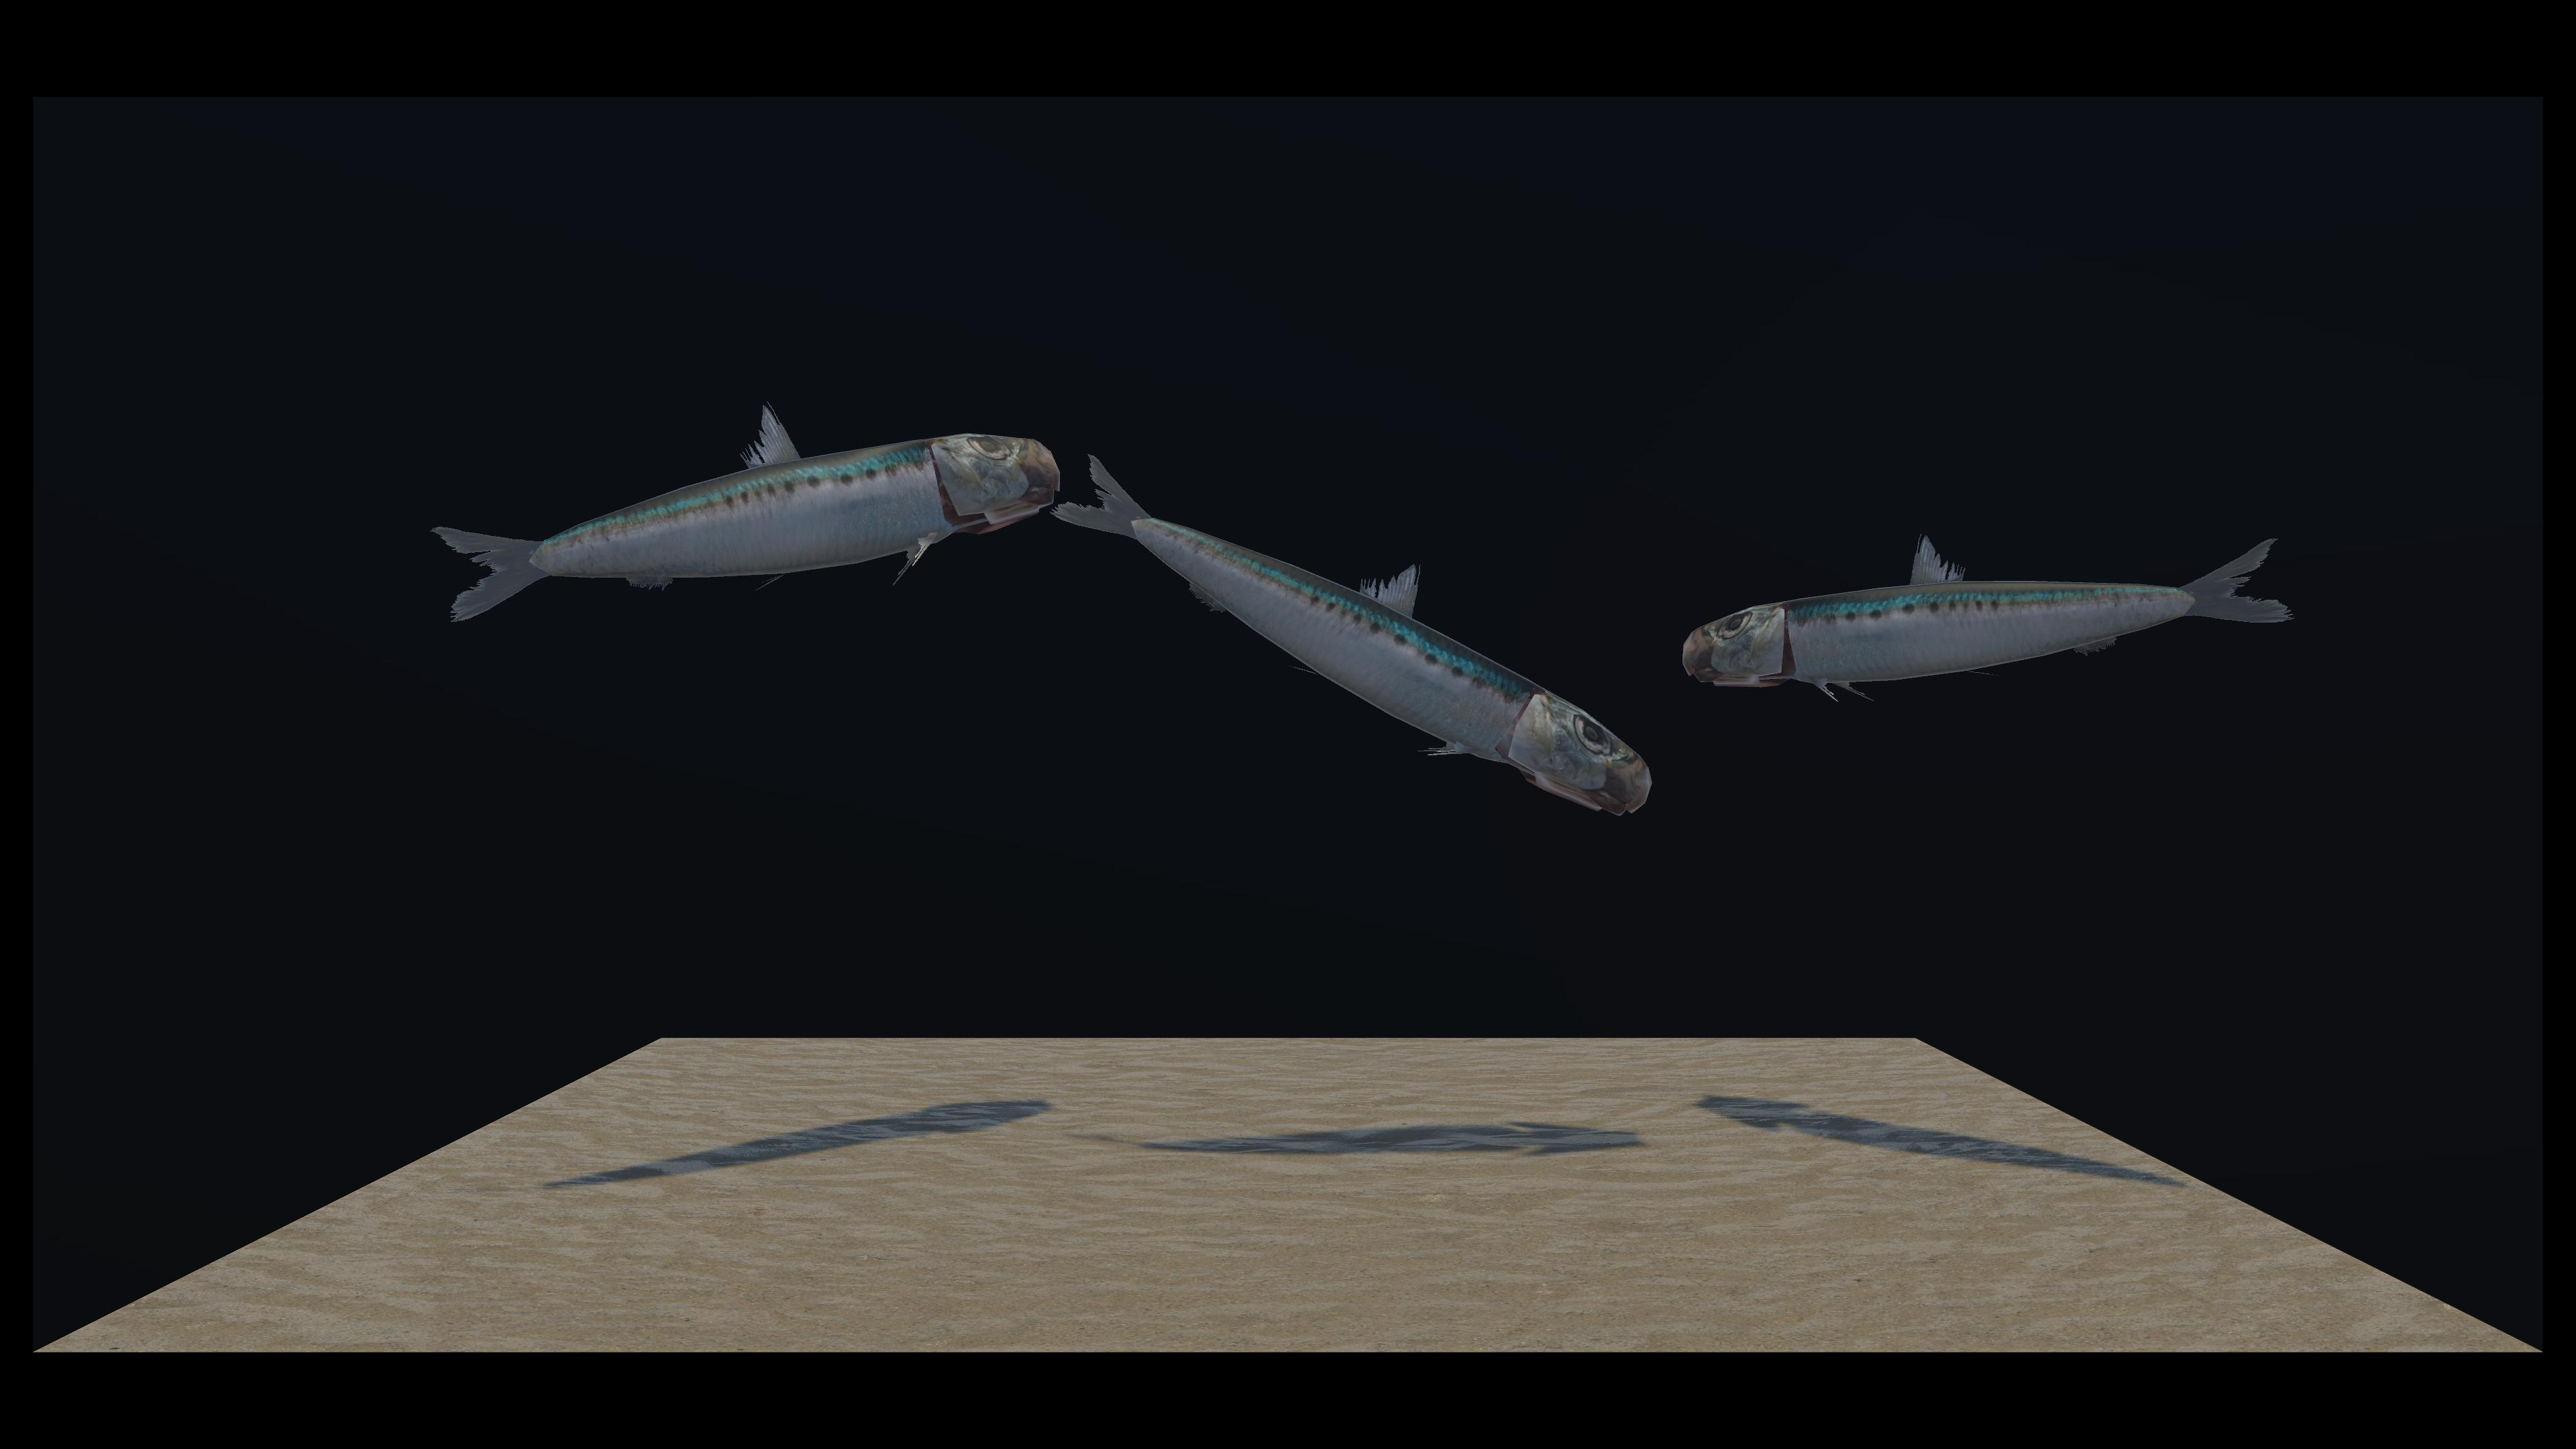Sardine_Front: (909, 265, 2293, 711), (777, 455, 1638, 768), (439, 418, 1024, 619)
